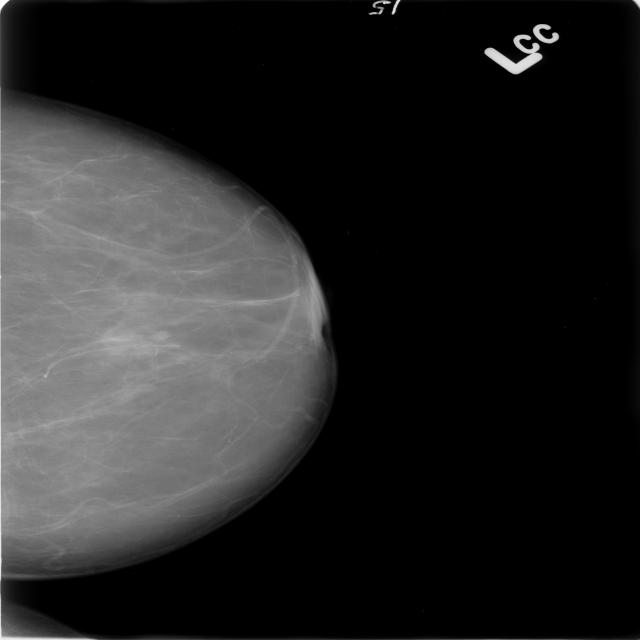normal: (0, 75, 377, 593)
